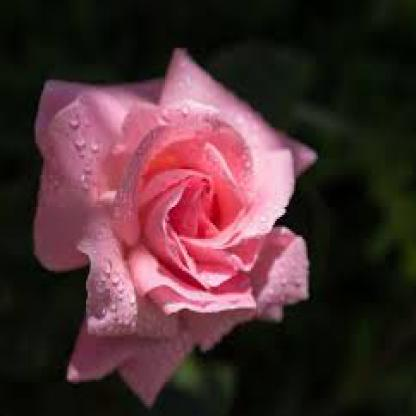Rose-Mawar: (25, 43, 310, 389)
